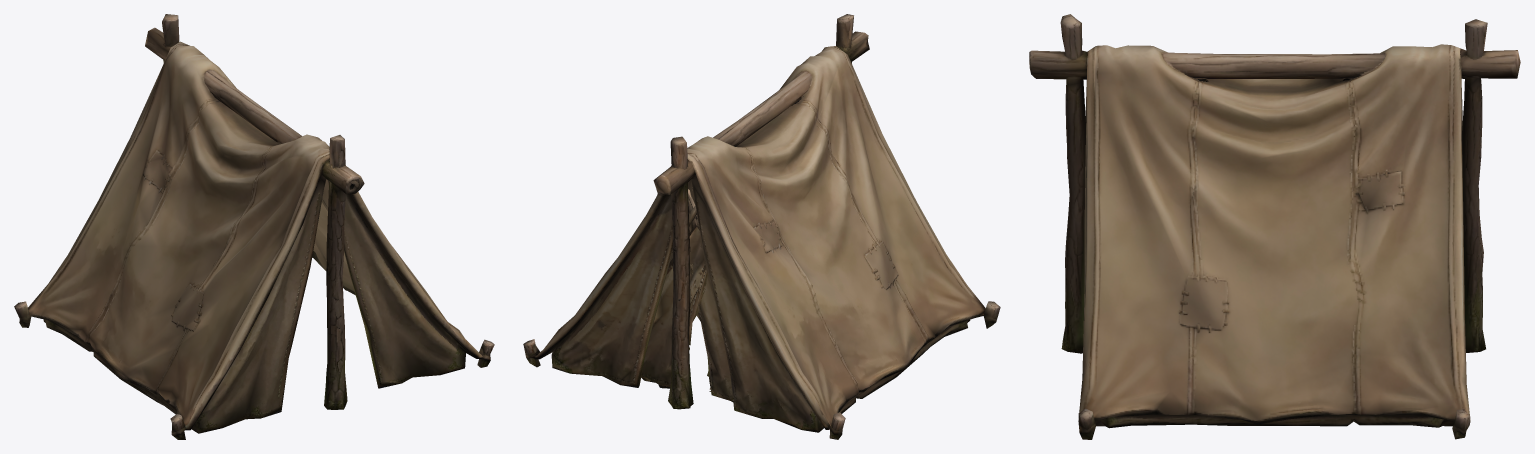
Rendered from CampTent.gltf.
3 renders of one model, left to right at view 1: azimuth 30°, elevation 25°; view 2: azimuth 150°, elevation 25°; view 3: azimuth 270°, elevation 25°, orthographic. The views are drawn at different scales.
Parts seen in each view (by area): view 1: lo; view 2: lo; view 3: lo.
Part boxes in pixels (x1,y1,x2,y2): lo: (14, 14, 494, 439); lo: (523, 14, 1000, 439); lo: (1029, 14, 1520, 439).
Bounding box in the file's own units: 3.95 × 3.19 × 4.29.
1 material, 1 textured.
